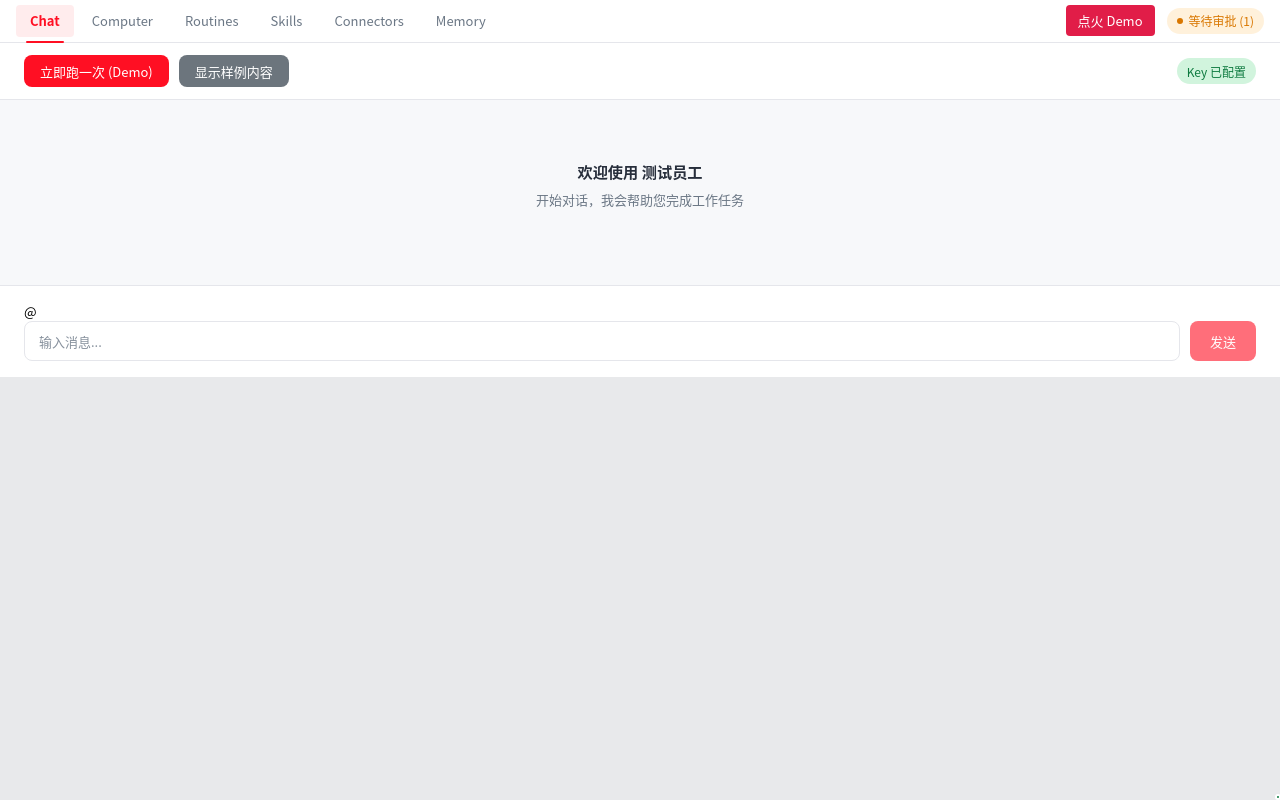
Test: TC-MAINSTAGE-DEMO-POLL-NO-DOUBLE: 顶栏 Demo 不叠卡 + job_status 移除 › 场景 3: 轮询 FAILED → 立即出失败卡 › should show failure error immediately when FAILED result arrives
The width and height of the screenshot is (1280, 800).
Click the button "点火 Demo".
click(1110, 20)  # box [1066,5,1154,36]
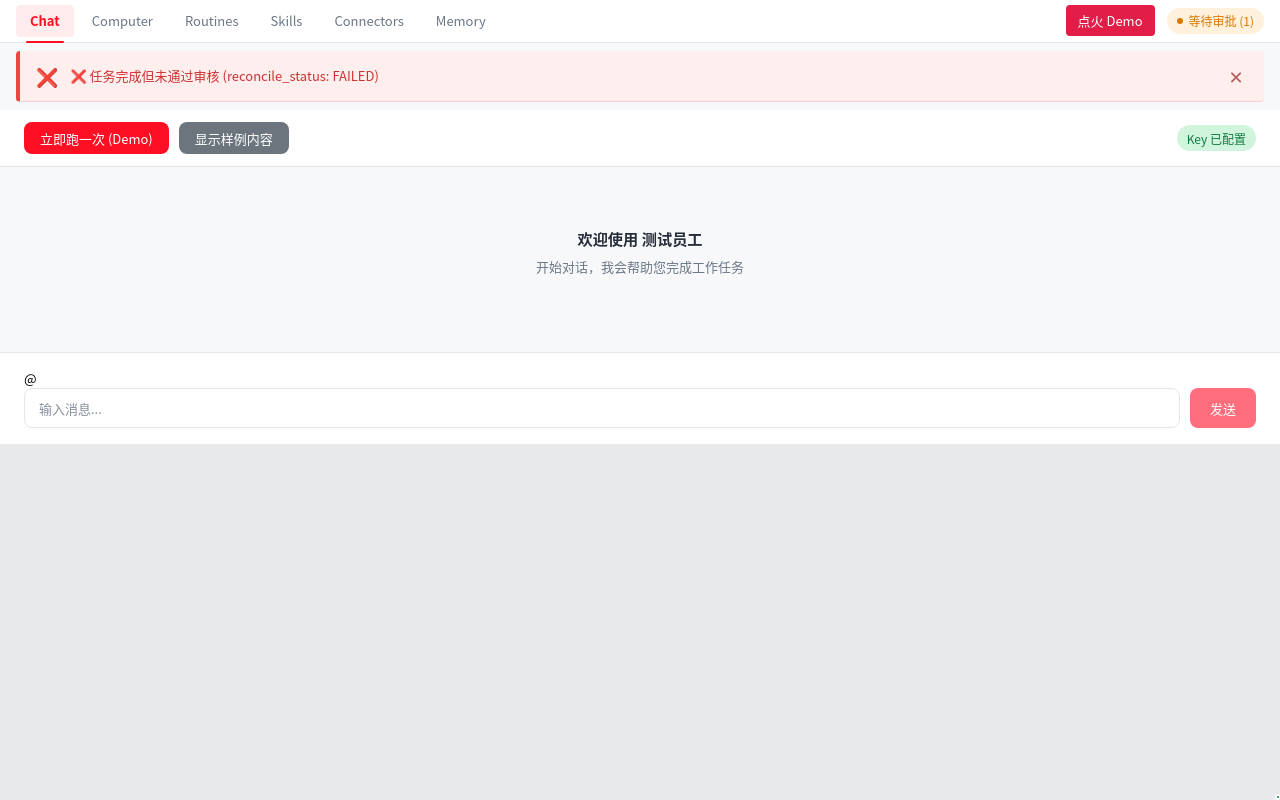
Expected: the number of elements with class "demo-error-banner" is 1, [16,51,1264,102]
